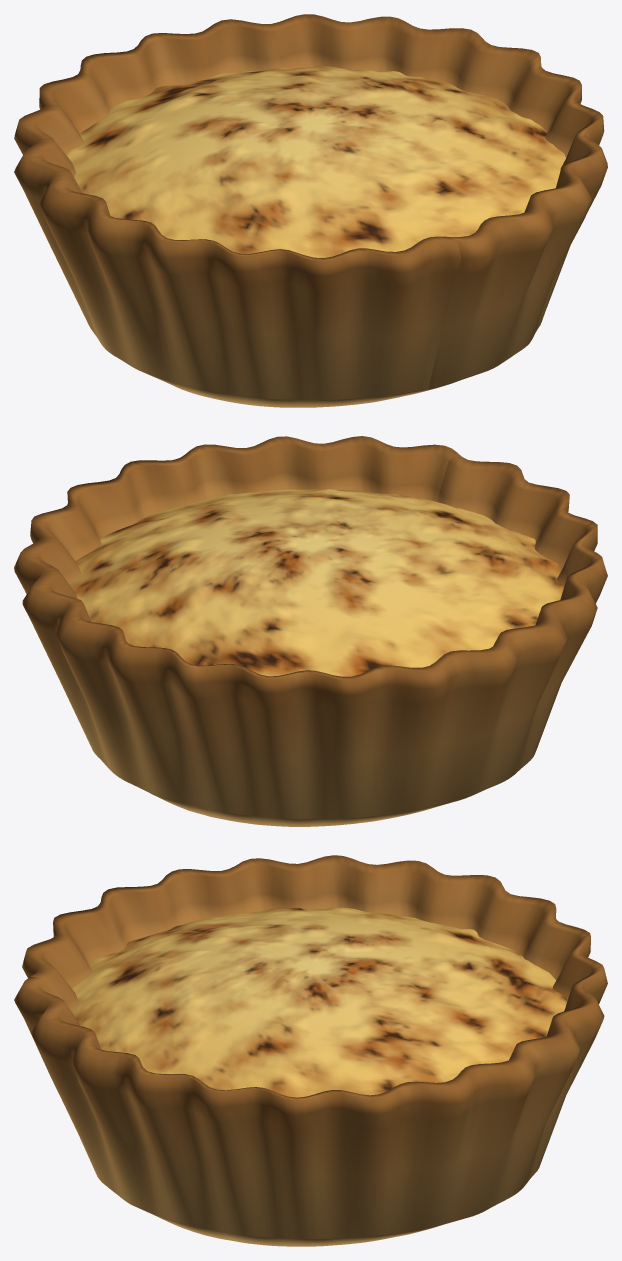
The model's file is pastel-de-nata.glb.
3 renders of one model, top to bottom at view 1: azimuth 30°, elevation 25°; view 2: azimuth 150°, elevation 25°; view 3: azimuth 270°, elevation 25°, orthographic.
Visible parts, largest first — view 1: massa-folhada, creme; view 2: massa-folhada, creme; view 3: massa-folhada, creme.
Boxes of the visible parts, x1,y1,x2,y2 form: massa-folhada: (14, 14, 607, 407); creme: (66, 66, 565, 257); massa-folhada: (14, 436, 607, 826); creme: (69, 489, 563, 676); massa-folhada: (14, 855, 607, 1246); creme: (71, 907, 567, 1097).
Size of the model in its own units: 0.0716 by 0.0263 by 0.0717.
